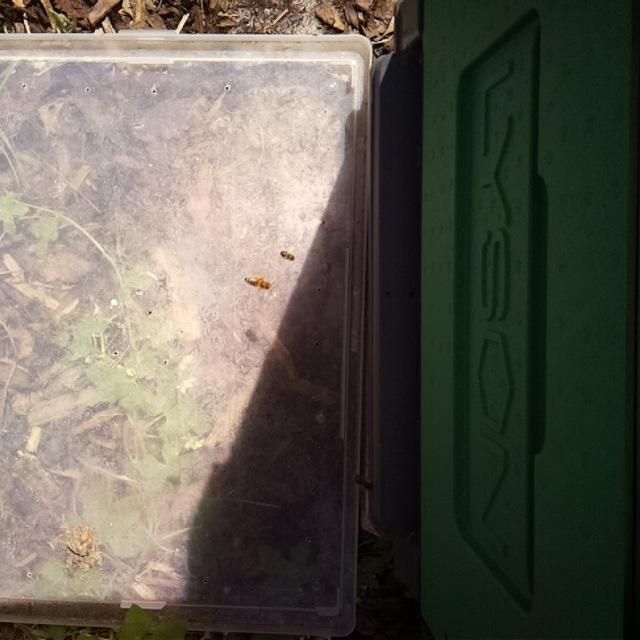worker-bee: (346, 464, 378, 496), (240, 274, 277, 297), (276, 245, 301, 269)
